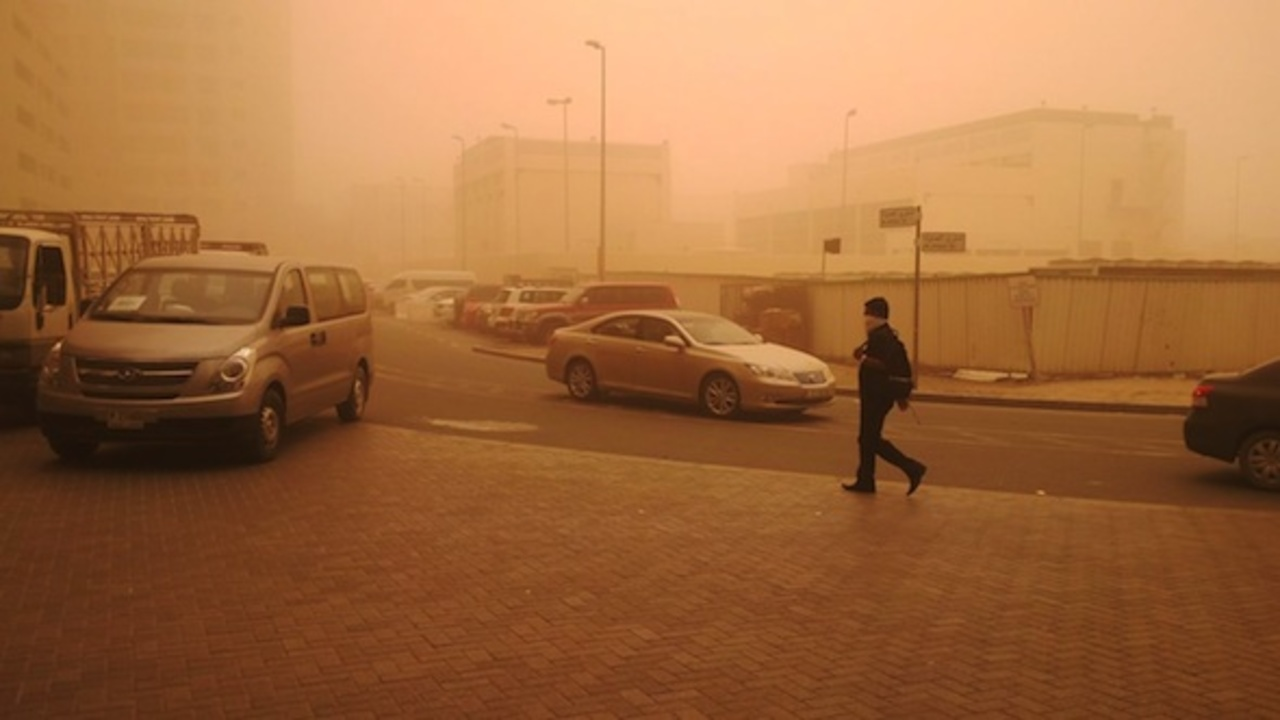car: (36, 249, 379, 467), (550, 313, 831, 416), (1180, 337, 1279, 492), (529, 278, 677, 344), (378, 268, 476, 319), (486, 287, 572, 332), (436, 282, 491, 321)
person: (843, 300, 928, 503)
truck: (3, 206, 206, 447)
